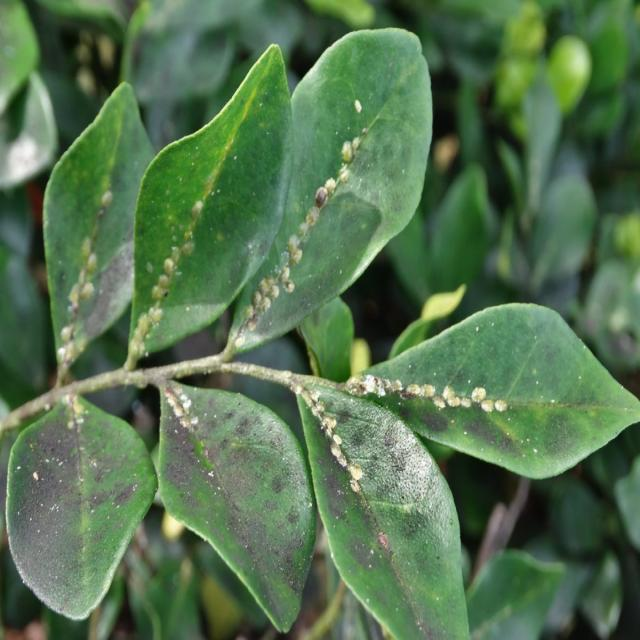Sooty Mold: (4, 24, 637, 636)
